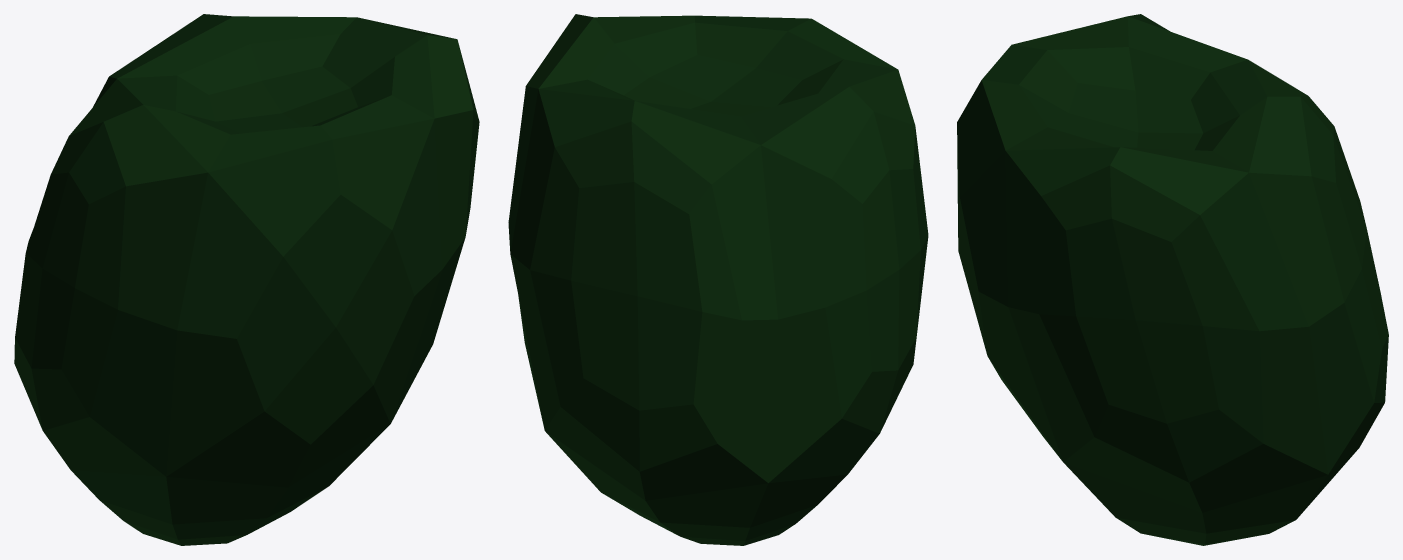
File: Trash1.fbx
3 views of the same model, side by side, from view 1: azimuth 30°, elevation 25°; view 2: azimuth 150°, elevation 25°; view 3: azimuth 270°, elevation 25° (orthographic). The views are drawn at different scales.
Visible parts, largest first — view 1: Cube; view 2: Cube; view 3: Cube.
Part boxes in pixels (x1,y1,x2,y2): Cube: (14,14,479,545); Cube: (508,14,928,545); Cube: (957,14,1388,545).
Bounding box in the file's own units: 283 × 323 × 266.
